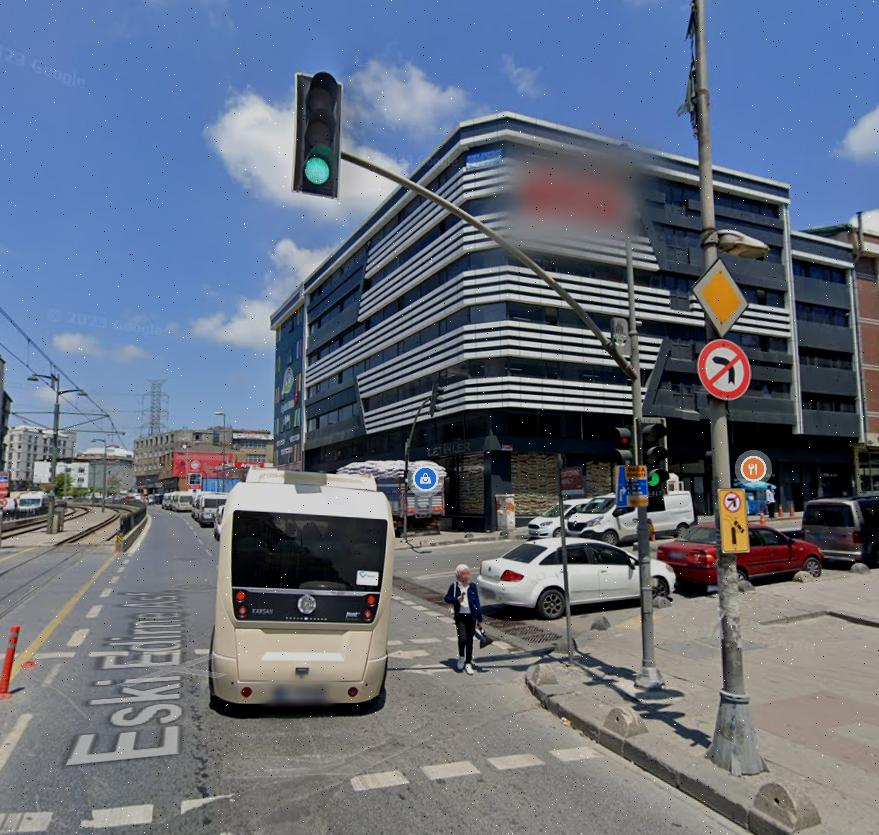greenlight: (299, 72, 340, 187), (640, 418, 668, 492)
leftturnsareforbidden: (698, 340, 751, 396), (723, 491, 742, 511)
